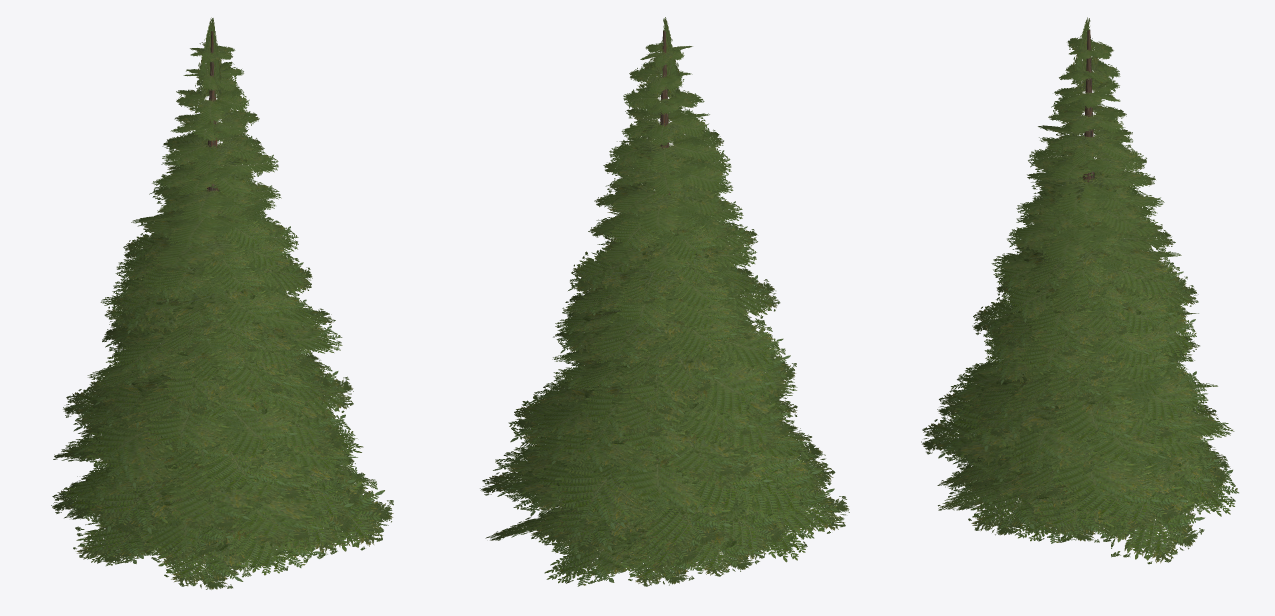
Rendered from tree_conifer.glb.
3 renders of one model, left to right at view 1: azimuth 30°, elevation 25°; view 2: azimuth 150°, elevation 25°; view 3: azimuth 270°, elevation 25°, orthographic. The views are drawn at different scales.
Parts seen in each view (by area): view 1: tree_conifer; view 2: tree_conifer; view 3: tree_conifer.
Boxes of the visible parts, bbox=[...] form: tree_conifer: bbox=[51, 17, 393, 589]; tree_conifer: bbox=[480, 17, 849, 586]; tree_conifer: bbox=[921, 17, 1238, 564].
Bounding box in the file's own units: 8.23 × 11.79 × 7.75.
1 material, 1 textured.
